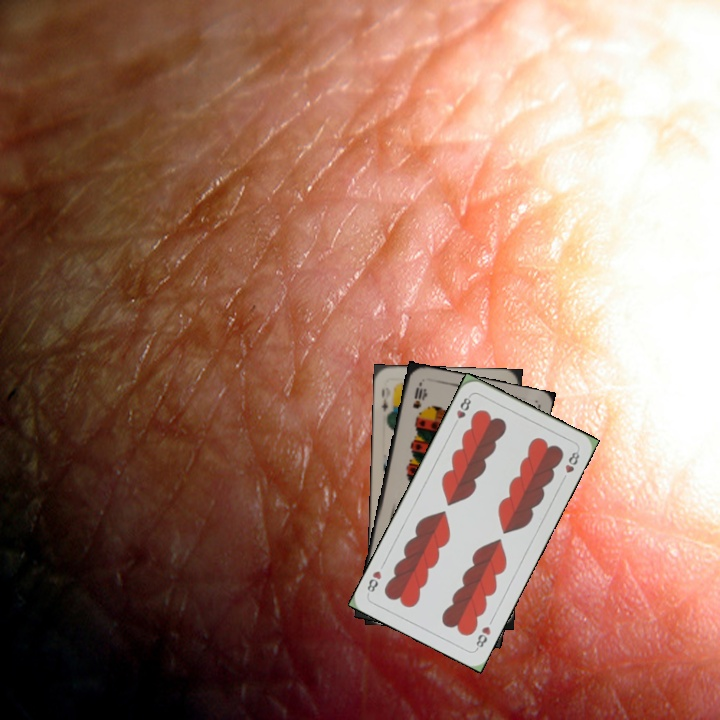EO: (377, 385, 395, 420)
H8: (450, 391, 473, 429), (472, 622, 493, 652)
S10: (409, 379, 427, 411)
